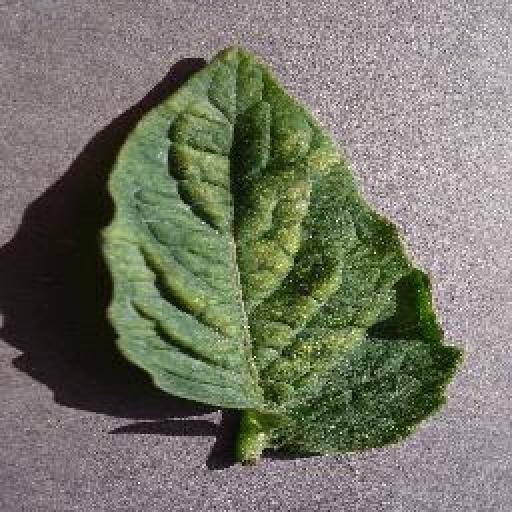Spider Mites: (105, 38, 464, 458)
